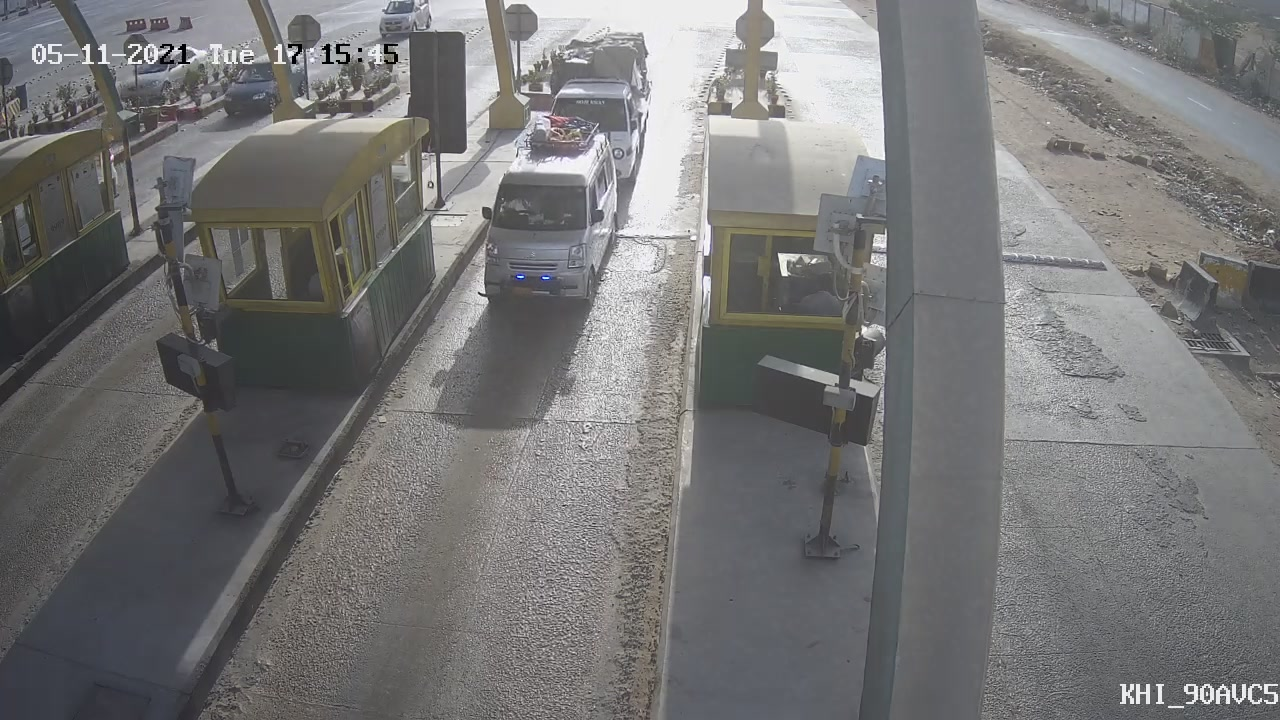F1: (478, 105, 625, 329)
